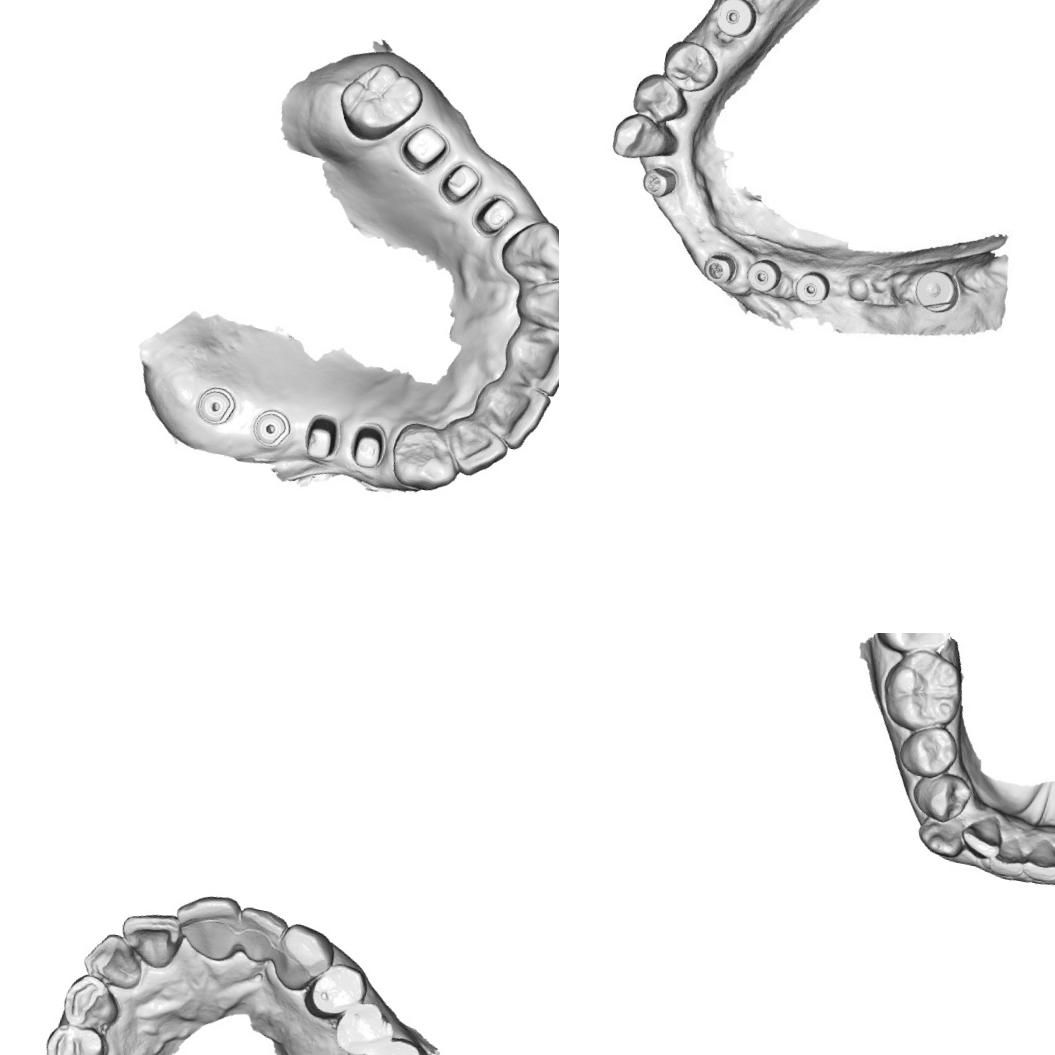abutment: (340, 414, 398, 480), (294, 404, 350, 471), (434, 151, 488, 210), (398, 120, 454, 176), (469, 189, 525, 242)
canine: (386, 417, 466, 497), (494, 212, 559, 292), (606, 109, 683, 173), (56, 968, 126, 1036), (271, 920, 334, 994), (910, 798, 974, 862)
implant: (181, 374, 247, 437), (239, 396, 298, 457), (910, 258, 965, 316), (638, 162, 683, 209), (713, 0, 757, 40), (788, 269, 830, 307), (697, 249, 737, 288), (744, 256, 782, 296)
incisor: (467, 374, 554, 455), (168, 882, 244, 966), (434, 411, 514, 485), (493, 319, 559, 400), (76, 924, 152, 994), (230, 902, 294, 975), (115, 905, 184, 968), (509, 268, 559, 340), (956, 803, 1009, 863), (986, 829, 1034, 887), (1016, 834, 1055, 891)
molar: (874, 641, 972, 737), (330, 54, 426, 150), (339, 1026, 439, 1055)
premolar: (892, 717, 966, 786), (905, 764, 978, 829), (328, 993, 402, 1055), (302, 958, 368, 1025), (661, 38, 720, 94), (628, 70, 688, 124), (43, 1019, 112, 1055)
